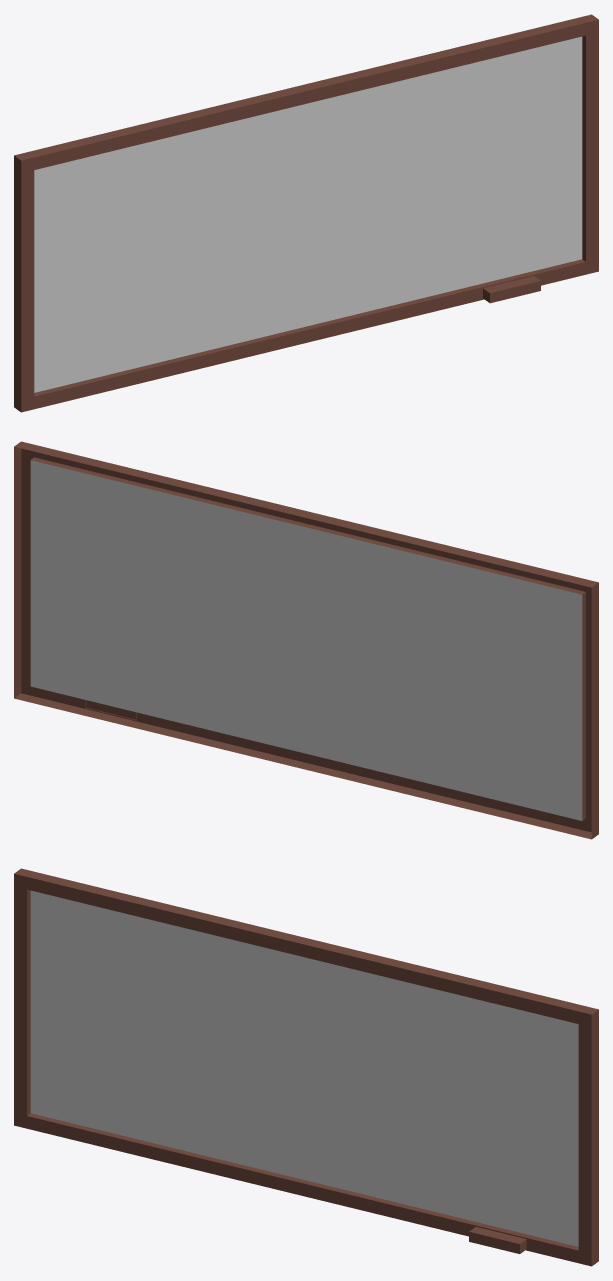
Rendered from Quadro.fbx.
The picture shows the model from 3 angles, top to bottom: view 1: azimuth 30°, elevation 25°; view 2: azimuth 150°, elevation 25°; view 3: azimuth 330°, elevation 25°; orthographic projection.
Visible parts, largest first — view 1: Cubo.145; view 2: Cubo.145; view 3: Cubo.145.
Boxes of the visible parts, x1,y1,x2,y2 form: Cubo.145: (14, 14, 598, 412); Cubo.145: (14, 441, 598, 839); Cubo.145: (14, 868, 598, 1266).
Bounding box in the file's own units: 561 × 234 × 23.59.
